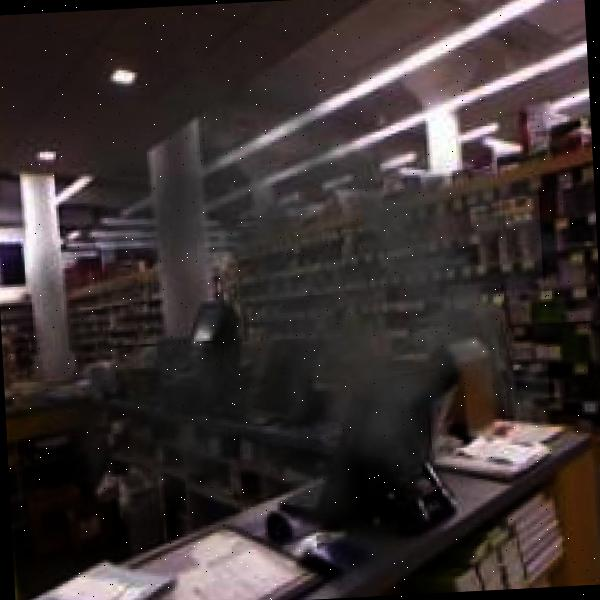smoke: (0, 20, 561, 600)
